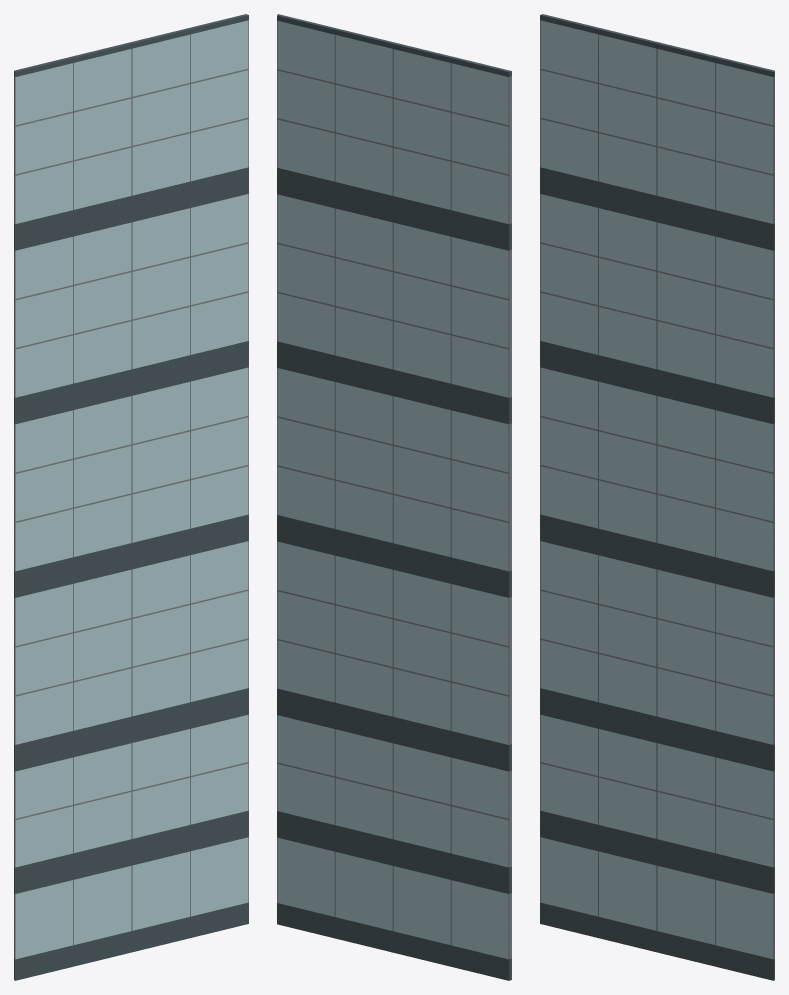
The model's file is G7_Completion_Prior_G7_MiddleExteriorSkin_E07_r001.glb.
The picture shows the model from 3 angles, left to right: view 1: azimuth 30°, elevation 25°; view 2: azimuth 150°, elevation 25°; view 3: azimuth 330°, elevation 25°; orthographic projection.
Parts seen in each view (by area): view 1: G7_MiddleSkin_E07_glazing, G7_MiddleSkin_E07_spandrel, G7_MiddleSkin_E07_joint; view 2: G7_MiddleSkin_E07_glazing, G7_MiddleSkin_E07_spandrel, G7_MiddleSkin_E07_joint; view 3: G7_MiddleSkin_E07_glazing, G7_MiddleSkin_E07_spandrel, G7_MiddleSkin_E07_joint.
Boxes of the visible parts, <box> form: G7_MiddleSkin_E07_glazing: <box>15,20,248,959</box>; G7_MiddleSkin_E07_spandrel: <box>14,14,248,980</box>; G7_MiddleSkin_E07_joint: <box>14,20,248,959</box>; G7_MiddleSkin_E07_glazing: <box>277,21,508,959</box>; G7_MiddleSkin_E07_spandrel: <box>277,14,511,980</box>; G7_MiddleSkin_E07_joint: <box>277,20,511,959</box>; G7_MiddleSkin_E07_glazing: <box>540,20,773,959</box>; G7_MiddleSkin_E07_spandrel: <box>540,14,774,980</box>; G7_MiddleSkin_E07_joint: <box>540,20,774,959</box>.
Bounding box in the file's own units: 11.99 × 44.5 × 0.16.
Materials: 3 (2 with a texture image).
